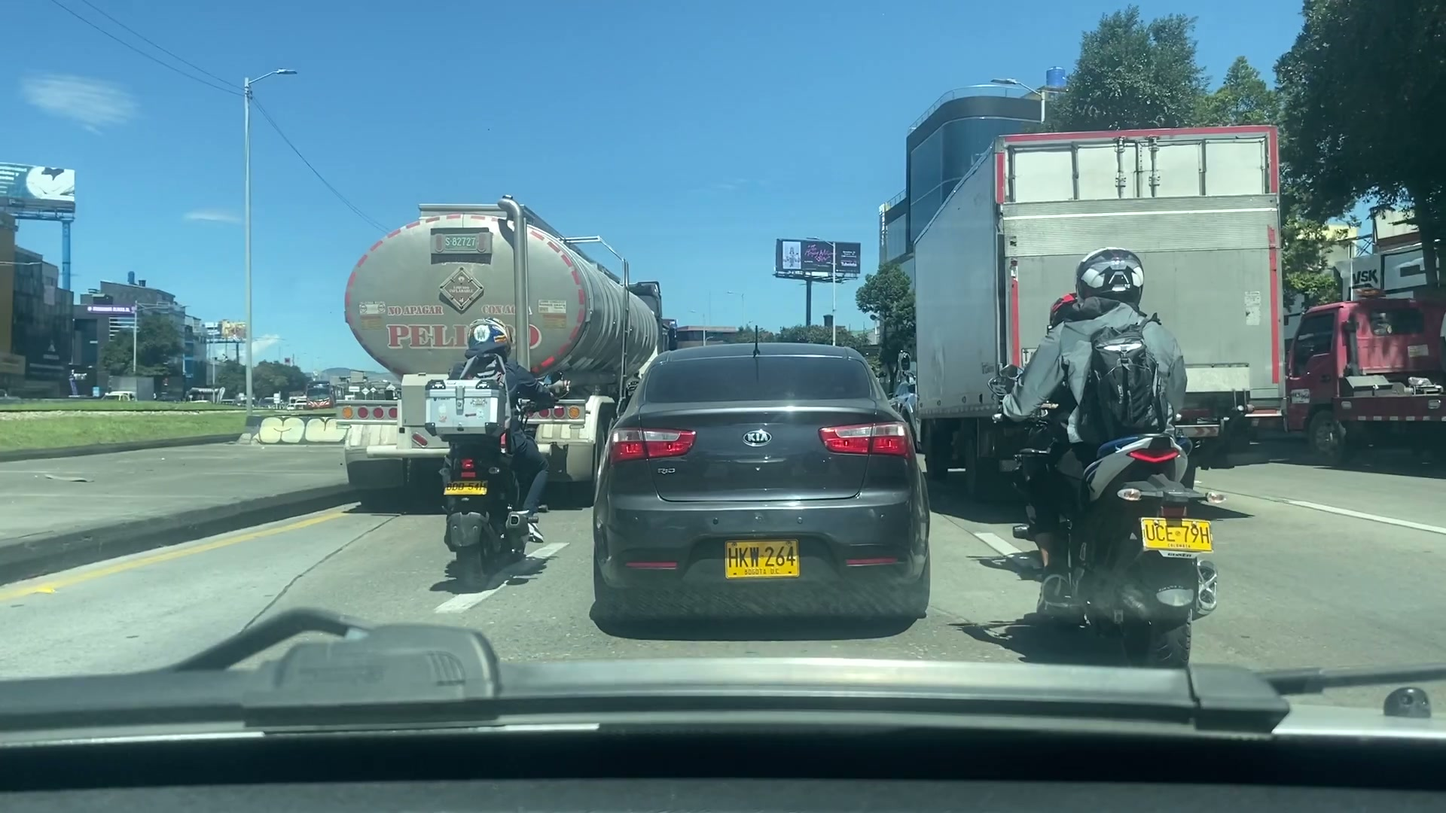car: (592, 345, 931, 626)
motorcycle: (1008, 424, 1220, 668), (430, 441, 542, 597)
person: (997, 243, 1205, 633), (443, 315, 550, 555)
truck: (920, 120, 1280, 503), (345, 197, 663, 507), (1291, 300, 1440, 453)
